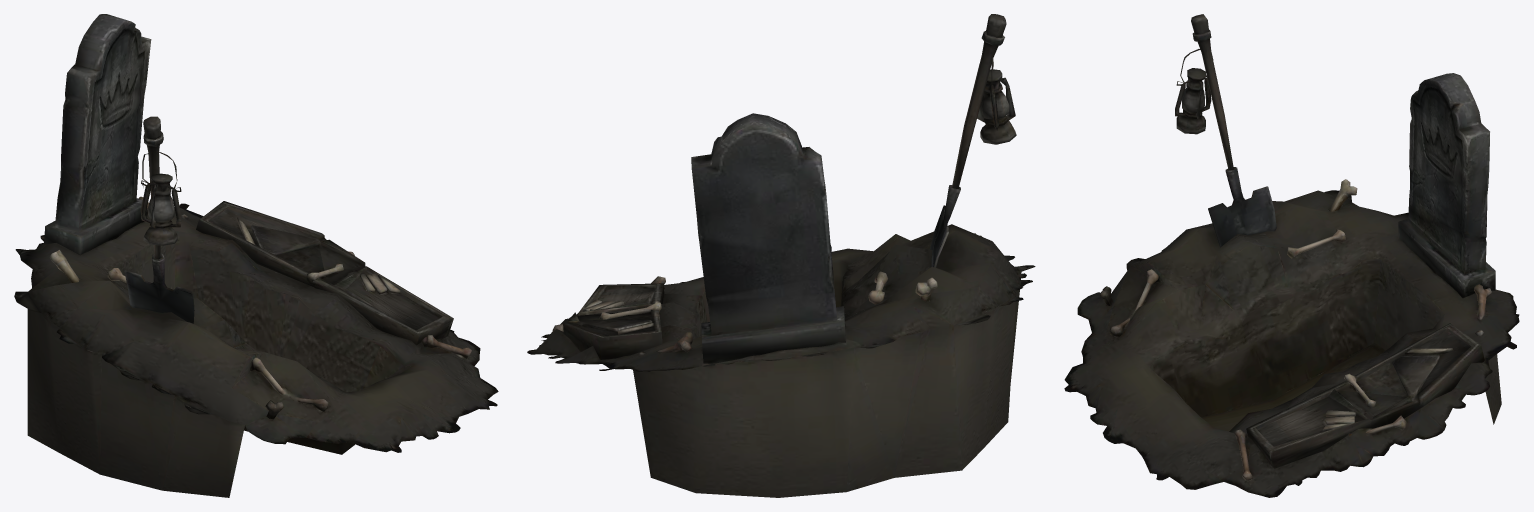
The model's file is kings_grave.glb.
3 renders of one model, left to right at view 1: azimuth 30°, elevation 25°; view 2: azimuth 150°, elevation 25°; view 3: azimuth 270°, elevation 25°, orthographic. The views are drawn at different scales.
Visible parts, largest first — view 1: tripo_node_b5aa403d-a87c-49dc-8bc5-569eda3b058d; view 2: tripo_node_b5aa403d-a87c-49dc-8bc5-569eda3b058d; view 3: tripo_node_b5aa403d-a87c-49dc-8bc5-569eda3b058d.
Boxes of the visible parts, <box> form: tripo_node_b5aa403d-a87c-49dc-8bc5-569eda3b058d: <box>14,14,498,497</box>; tripo_node_b5aa403d-a87c-49dc-8bc5-569eda3b058d: <box>527,14,1035,497</box>; tripo_node_b5aa403d-a87c-49dc-8bc5-569eda3b058d: <box>1064,14,1519,497</box>.
Bounding box in the file's own units: 0.998 × 0.8105 × 0.998.
1 material, 1 textured.
